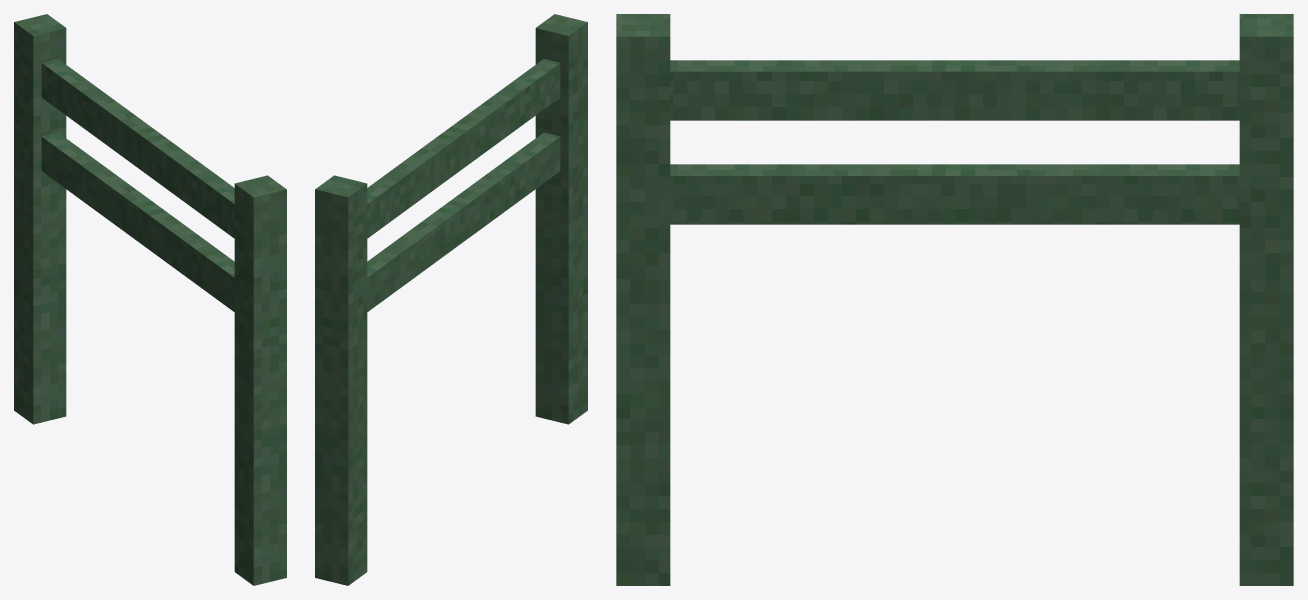
File: Fence.fbx
3 renders of one model, left to right at view 1: azimuth 30°, elevation 25°; view 2: azimuth 150°, elevation 25°; view 3: azimuth 270°, elevation 25°, orthographic. The views are drawn at different scales.
Parts seen in each view (by area): view 1: Fence; view 2: Fence; view 3: Fence.
Part boxes in pixels (bbox=[...]): Fence: bbox=[14, 14, 286, 585]; Fence: bbox=[315, 14, 587, 585]; Fence: bbox=[616, 14, 1293, 585].
Size of the model in its own units: 0.1733 by 2.17 by 1.94.
